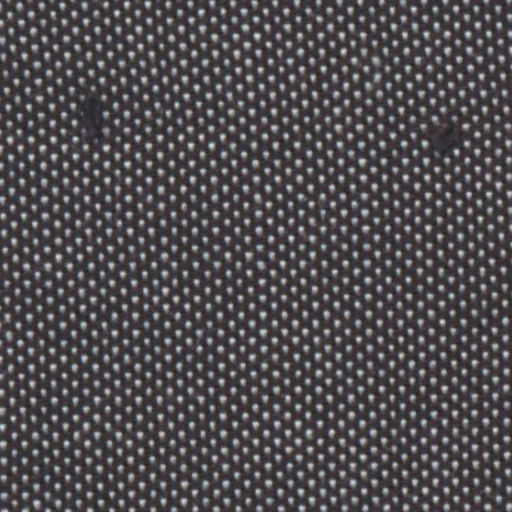MianQiu: (408, 100, 469, 163), (65, 82, 124, 146)
